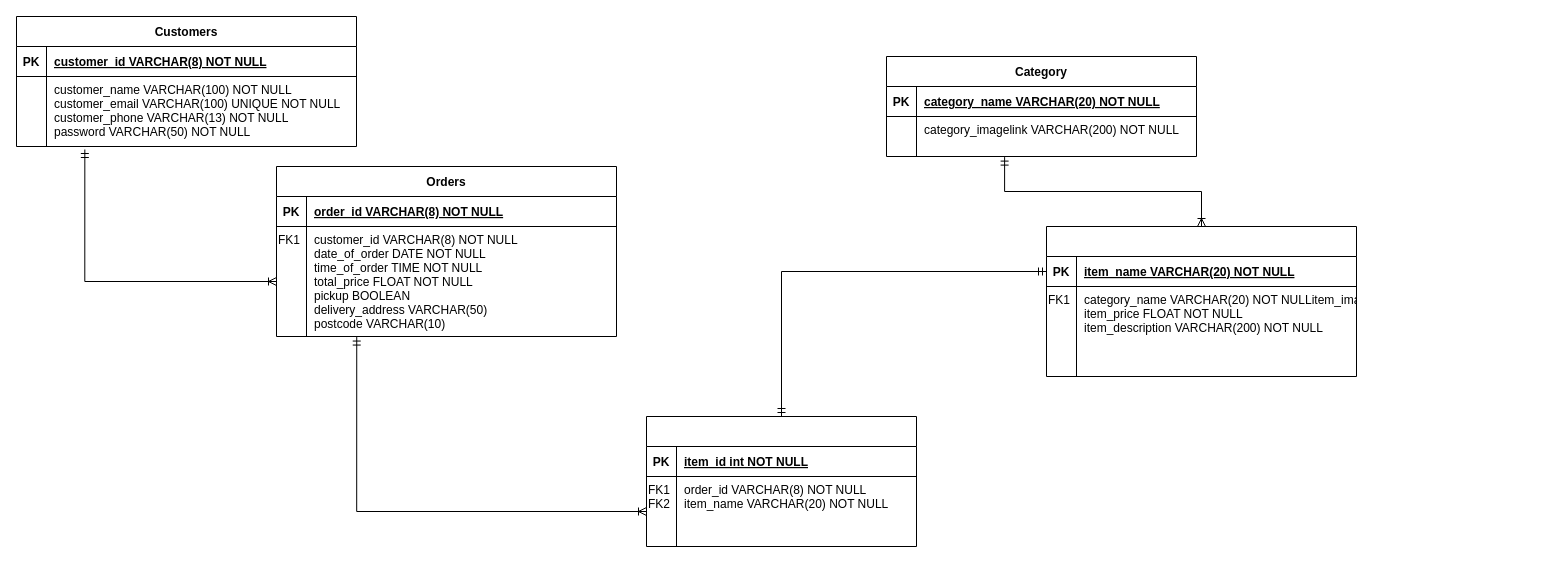
This 1560x563 diagram has some shape labels left out. The box of each missing label's shape, as (x1, y1, x2, y2) in pixels:
CategoryItems: (1046, 226, 1356, 376)
OrderItems: (646, 416, 916, 546)
